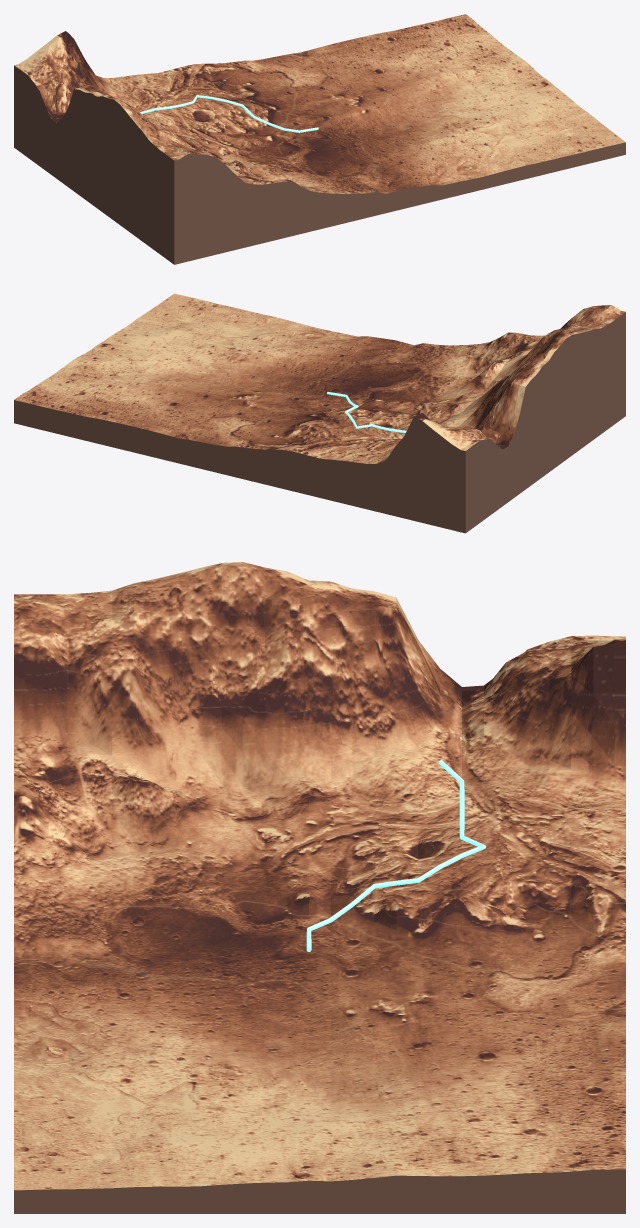
Rendered from marswalk.glb.
3 views of the same model, one above another, from view 1: azimuth 30°, elevation 25°; view 2: azimuth 150°, elevation 25°; view 3: azimuth 270°, elevation 25° (orthographic). The views are drawn at different scales.
Parts seen in each view (by area): view 1: Jezero western delta, Default A-star traverse; view 2: Jezero western delta, Default A-star traverse; view 3: Jezero western delta, Default A-star traverse.
Boxes of the visible parts, <box> form: Jezero western delta: <box>14,14,625,264</box>; Default A-star traverse: <box>140,95,318,132</box>; Jezero western delta: <box>14,293,625,533</box>; Default A-star traverse: <box>327,392,406,432</box>; Jezero western delta: <box>14,562,625,1213</box>; Default A-star traverse: <box>306,760,486,951</box>.
Size of the model in its own units: 0.2108 by 0.054 by 0.1297.
Materials: 3 (1 with a texture image).
